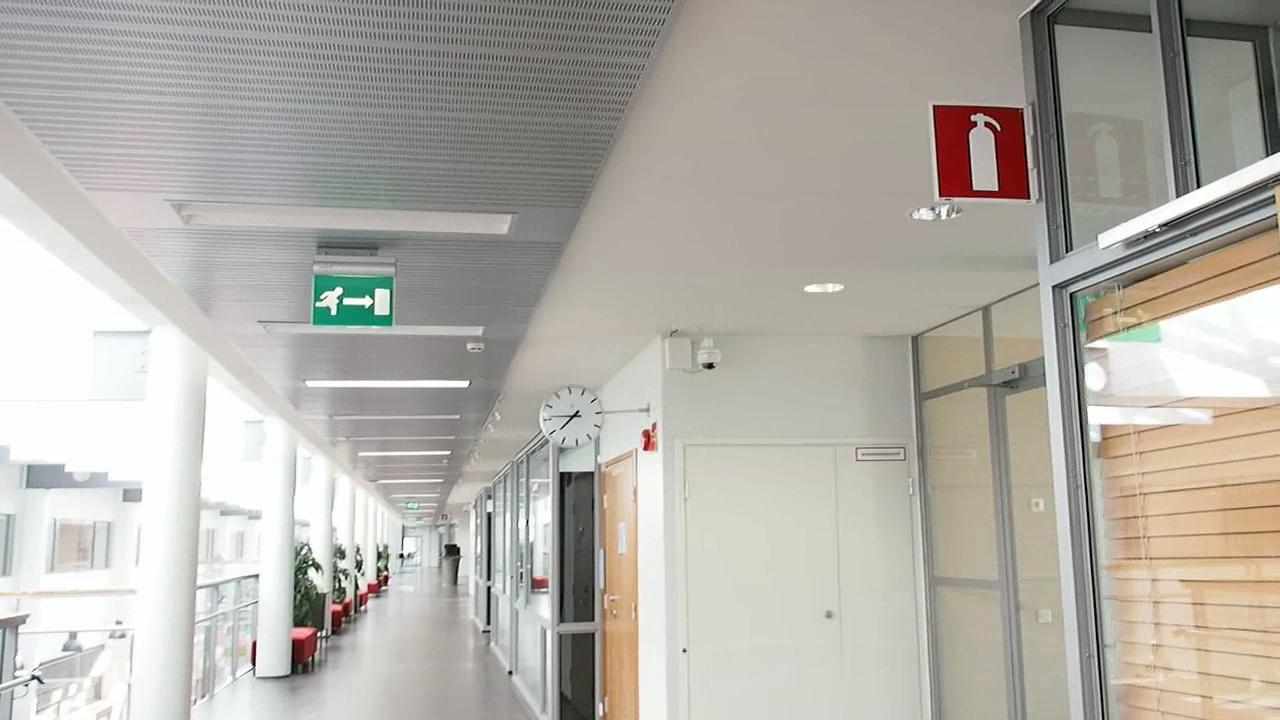clock: (537, 387, 606, 455)
exit: (303, 276, 394, 331)
fireextinguisher: (938, 101, 1036, 198)
